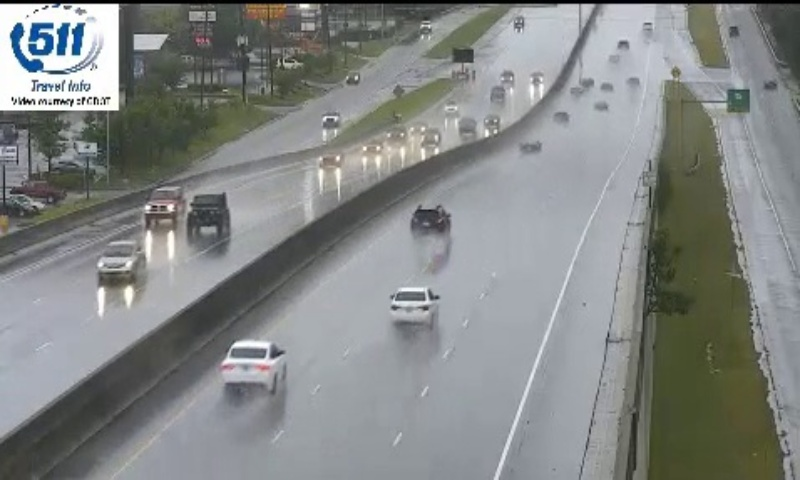car: (222, 339, 286, 388), (389, 287, 436, 325), (410, 205, 450, 238)
